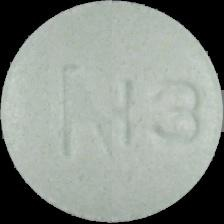60429-203: (0, 0, 224, 224)
